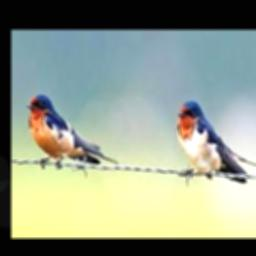Swallow: (23, 93, 118, 167), (175, 100, 256, 183)
